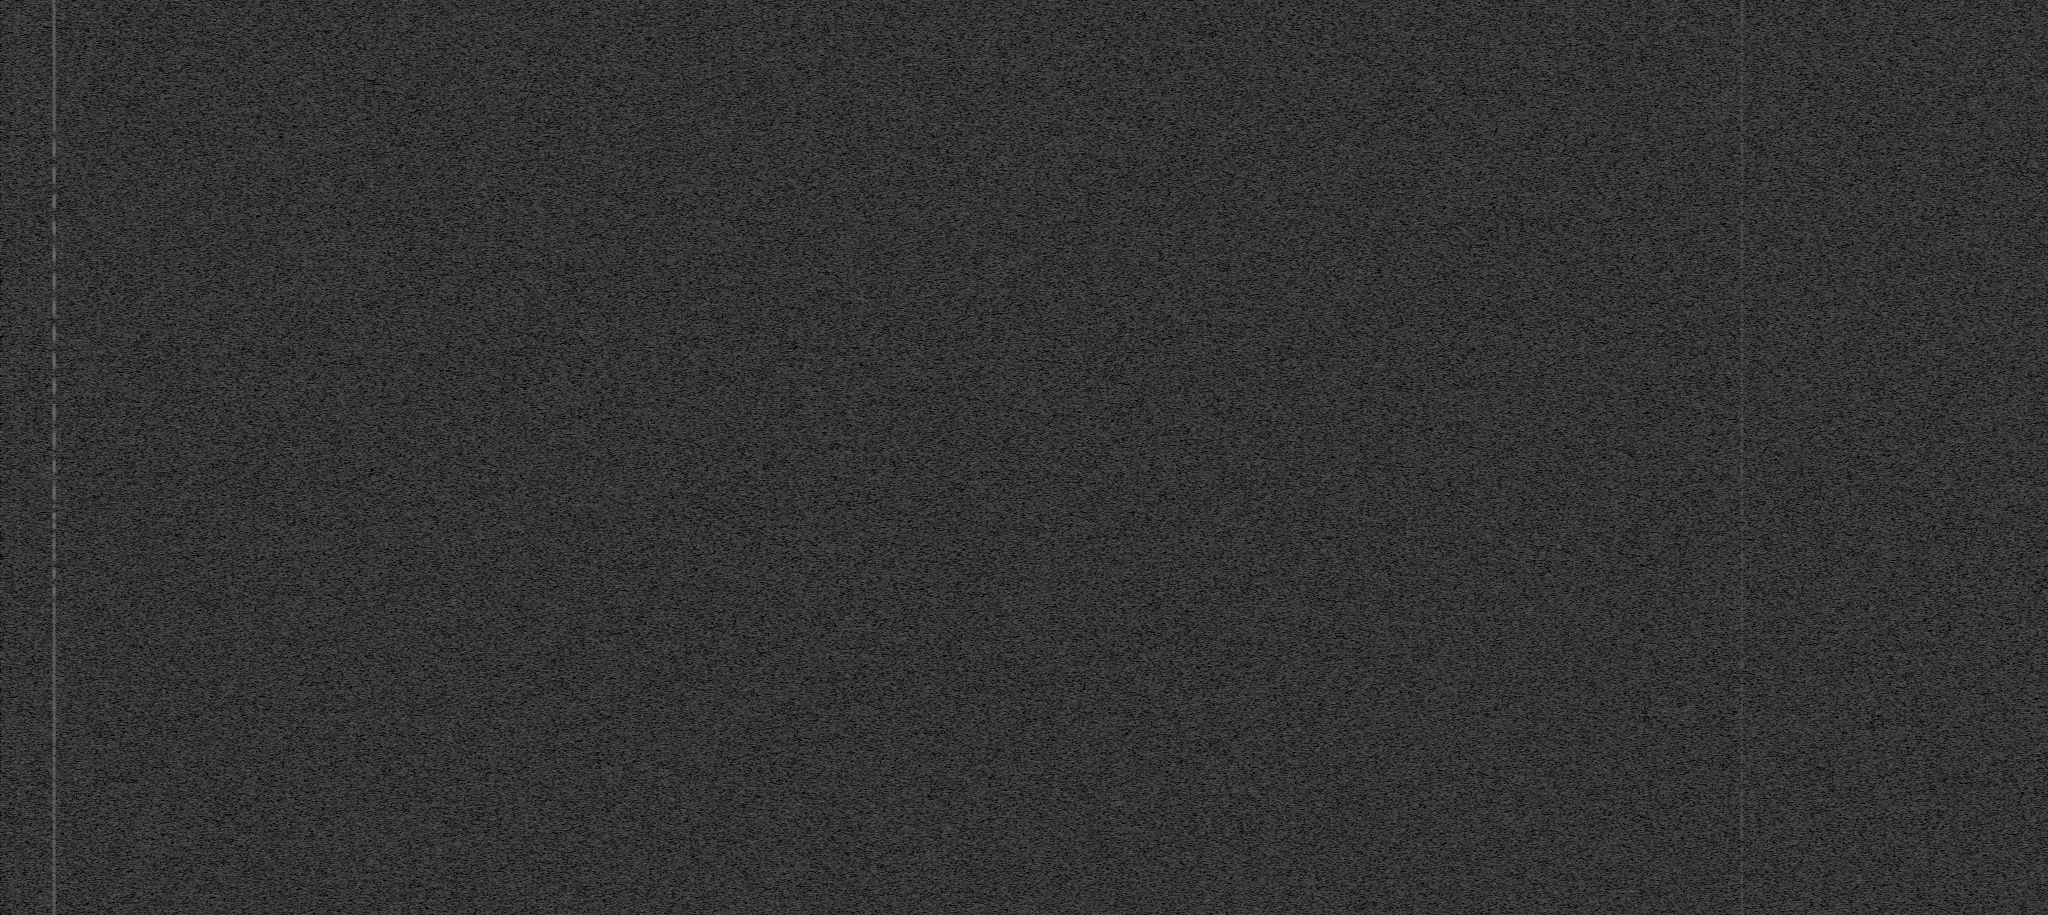wv_am: (1738, 0, 1745, 915), (47, 0, 61, 240), (51, 583, 57, 915), (51, 241, 57, 399), (51, 503, 57, 563), (51, 452, 57, 501), (51, 402, 57, 452), (51, 566, 57, 580)
wv_usb: (16, 89, 21, 201), (16, 202, 21, 295), (14, 7, 21, 77), (16, 416, 21, 469), (16, 869, 21, 915), (16, 495, 20, 536), (16, 386, 21, 416), (16, 816, 21, 842), (16, 350, 21, 375), (16, 298, 21, 322), (16, 788, 21, 811), (16, 583, 20, 607), (16, 843, 21, 860), (16, 322, 21, 338), (16, 644, 20, 660), (16, 566, 20, 582), (16, 753, 20, 768), (16, 629, 20, 644), (16, 778, 21, 788), (16, 469, 21, 479), (16, 376, 21, 385), (16, 339, 21, 349), (16, 78, 21, 87), (16, 683, 20, 693), (16, 666, 20, 676), (16, 617, 20, 628), (16, 694, 20, 704), (16, 608, 20, 616), (16, 538, 20, 544), (16, 480, 20, 487), (16, 861, 20, 868), (16, 811, 21, 814), (16, 550, 20, 555), (16, 711, 20, 715), (16, 705, 20, 709), (16, 677, 20, 681), (16, 745, 20, 748), (16, 741, 20, 744), (16, 662, 20, 664), (16, 560, 20, 563), (16, 556, 20, 559), (16, 546, 20, 548), (16, 488, 20, 491)
